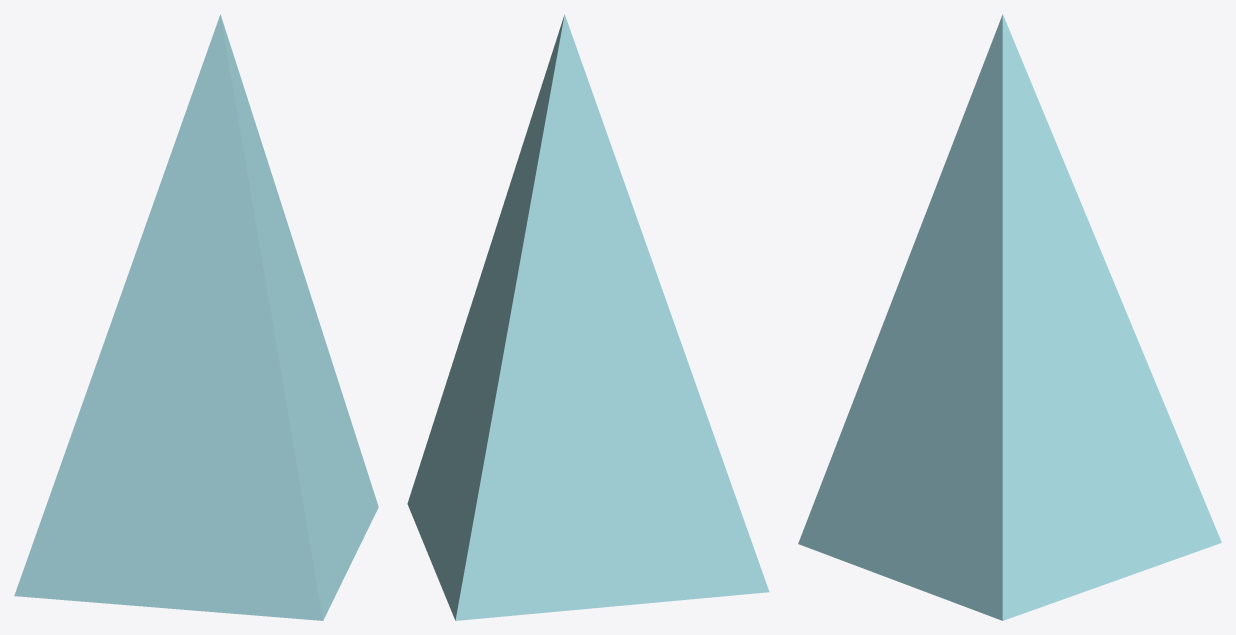
The model's file is gelo2.fbx.
3 views of the same model, side by side, from view 1: azimuth 30°, elevation 25°; view 2: azimuth 150°, elevation 25°; view 3: azimuth 270°, elevation 25° (orthographic).
Parts seen in each view (by area): view 1: Plane.002; view 2: Plane.002; view 3: Plane.002.
Part boxes in pixels (left/top/right/bottom): Plane.002: left=14, top=14, right=378, bottom=620; Plane.002: left=407, top=14, right=769, bottom=620; Plane.002: left=798, top=14, right=1221, bottom=620.
Size of the model in its own units: 290 by 404 by 293.
